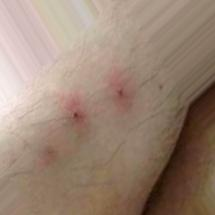Fleas: (37, 143, 59, 162), (112, 85, 126, 102), (68, 110, 84, 121)
